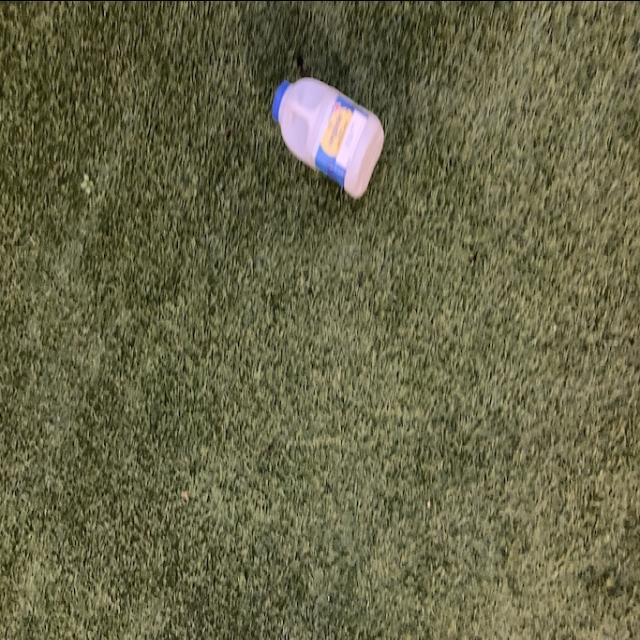HDPEM: (270, 75, 392, 199)
